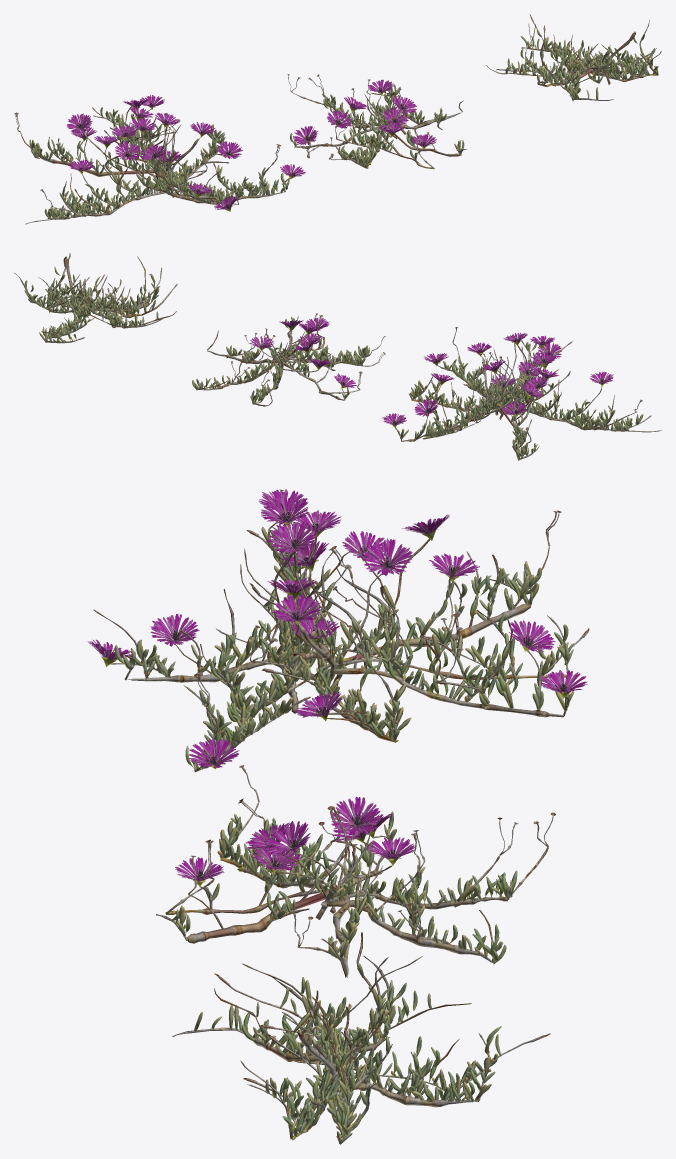
Rendered from leipoldtia_schultzei.glb.
3 renders of one model, top to bottom at view 1: azimuth 30°, elevation 25°; view 2: azimuth 150°, elevation 25°; view 3: azimuth 270°, elevation 25°, orthographic. The views are drawn at different scales.
Visible parts, largest first — view 1: leipoldtia_schultzei_Large_LOD0; view 2: leipoldtia_schultzei_Large_LOD0; view 3: leipoldtia_schultzei_Large_LOD0.
Part boxes in pixels (<box>): leipoldtia_schultzei_Large_LOD0: <box>14,14,661,224</box>; leipoldtia_schultzei_Large_LOD0: <box>14,253,661,460</box>; leipoldtia_schultzei_Large_LOD0: <box>87,489,589,1144</box>.
Bounding box in the file's own units: 2.31 × 0.3171 × 0.8098.
1 material, 1 textured.
